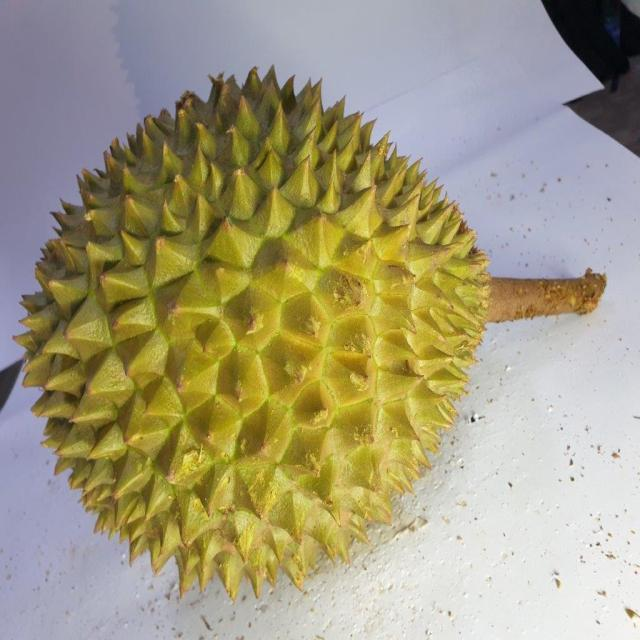immature: (12, 63, 488, 599)
